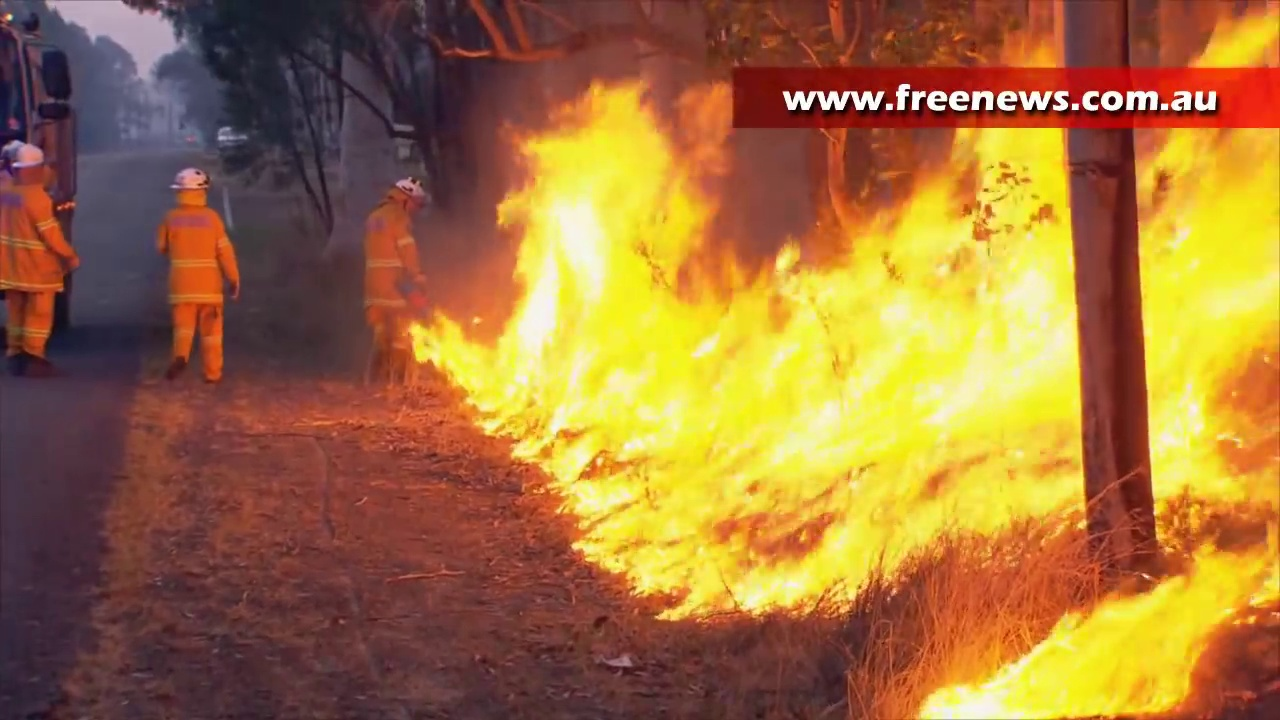fire: (406, 87, 1077, 611), (1135, 19, 1280, 518), (922, 529, 1280, 720)
